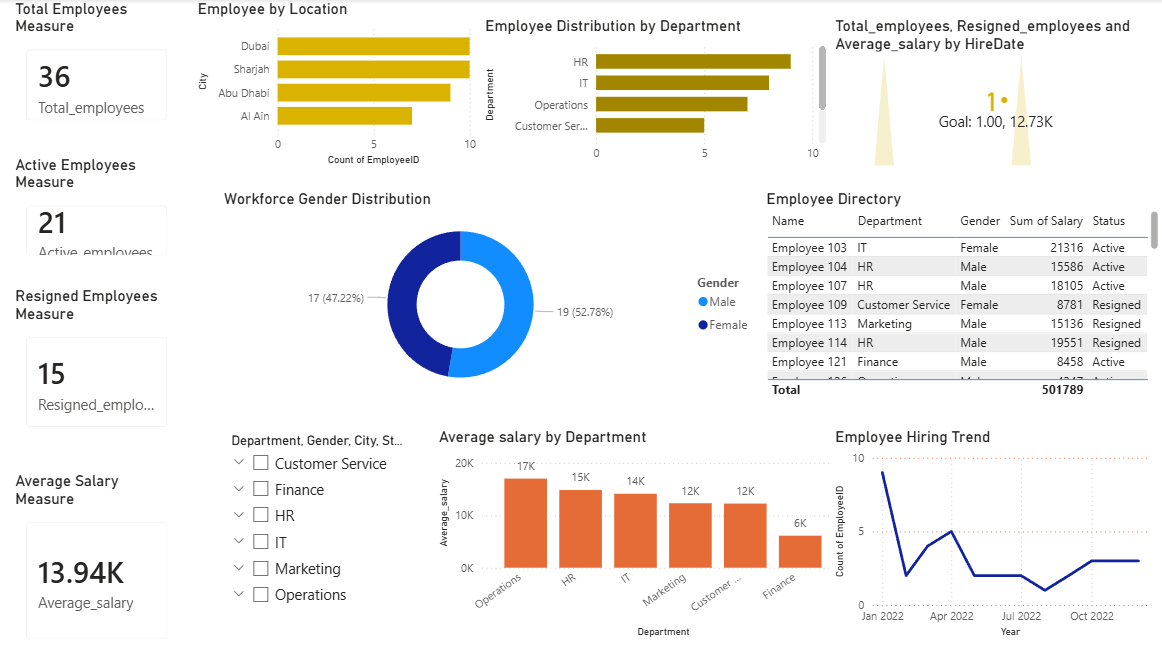

Layout of this report page (visuals, bound fields, positions):
{"tool":"powerbi","page":{"name":"Page 1","canvas":[1280,720],"ordinal":0},"visuals":[{"type":"kpi","fields":{"Indicator":["Employees.Total_employees"],"Goal":["Employees.Resigned_employees","Employees.Average_salary"],"TrendLine":["Employees.HireDate"]},"box":[915.3,19.2,365,168.8],"z":0},{"type":"clusteredBarChart","title":"Employee Distribution by Department","fields":{"Category":["Employees.Department"],"Y":["CountNonNull(Employees.EmployeeID)"]},"box":[531,19.2,384.2,168.8],"z":1000},{"type":"donutChart","title":"Workforce Gender Distribution","fields":{"Y":["CountNonNull(Employees.EmployeeID)"],"Category":["Employees.Gender"]},"box":[244.3,208.6,595.5,234.6],"z":2000},{"type":"barChart","title":"Employee by Location","fields":{"Category":["Employees.City"],"Y":["CountNonNull(Employees.EmployeeID)"]},"box":[215.4,0,315.6,188],"z":3000},{"type":"clusteredColumnChart","title":"Average salary by Department","fields":{"Category":["Employees.Department"],"Y":["Employees.Average_salary"]},"box":[480.3,470.7,455.6,234.6],"z":4000},{"type":"lineChart","title":"Employee Hiring Trend","fields":{"Category":["Employees.HireDate.Variation.Date Hierarchy.Year","Employees.HireDate.Variation.Date Hierarchy.Month","Employees.HireDate.Variation.Date Hierarchy.Day"],"Y":["CountNonNull(Employees.EmployeeID)"]},"box":[915.3,470.7,365,234.6],"z":5000},{"type":"tableEx","title":"Employee Directory","fields":{"Values":["Employees.Name","Employees.Department","Employees.Gender","Sum(Employees.Salary)","Employees.Status"]},"box":[839.8,208.6,440.5,234.6],"z":6000},{"type":"slicer","fields":{"Values":["Employees.Department","Employees.Gender","Employees.City","Employees.Status"]},"box":[244.3,470.7,225,234.6],"z":7000},{"type":"cardVisual","title":"Total Employees Measure","fields":{"Data":["Employees.Total_employees"]},"box":[15.1,0,189.4,150.9],"z":8000},{"type":"cardVisual","title":"Active Employees Measure","fields":{"Data":["Employees.Active_employees"]},"box":[15.1,171.5,189.4,127.6],"z":9000},{"type":"cardVisual","title":"Resigned Employees Measure","fields":{"Data":["Employees.Resigned_employees"]},"box":[15.1,315.6,189.4,171.5],"z":10000},{"type":"cardVisual","title":"Average Salary Measure","fields":{"Data":["Employees.Average_salary"]},"box":[15.1,518.7,189.4,201.7],"z":11000}]}

Visuals, with their boxes in screenshot pixels (x1, y1, x2, y2), scaled from the page's 1280x720 canvas onto the 1162x652 screenshot:
kpi - Employees.Total_employees x Employees.Resigned_employees: l=831, t=17, r=1161, b=170
"Employee Distribution by Department" clusteredBarChart: l=482, t=17, r=831, b=170
"Workforce Gender Distribution" donutChart: l=222, t=189, r=762, b=401
"Employee by Location" barChart: l=196, t=0, r=482, b=170
"Average salary by Department" clusteredColumnChart: l=436, t=426, r=850, b=639
"Employee Hiring Trend" lineChart: l=831, t=426, r=1161, b=639
"Employee Directory" tableEx: l=762, t=189, r=1161, b=401
slicer - Employees.Department x Employees.Gender: l=222, t=426, r=426, b=639
"Total Employees Measure" cardVisual: l=14, t=0, r=186, b=137
"Active Employees Measure" cardVisual: l=14, t=155, r=186, b=271
"Resigned Employees Measure" cardVisual: l=14, t=286, r=186, b=441
"Average Salary Measure" cardVisual: l=14, t=470, r=186, b=651
